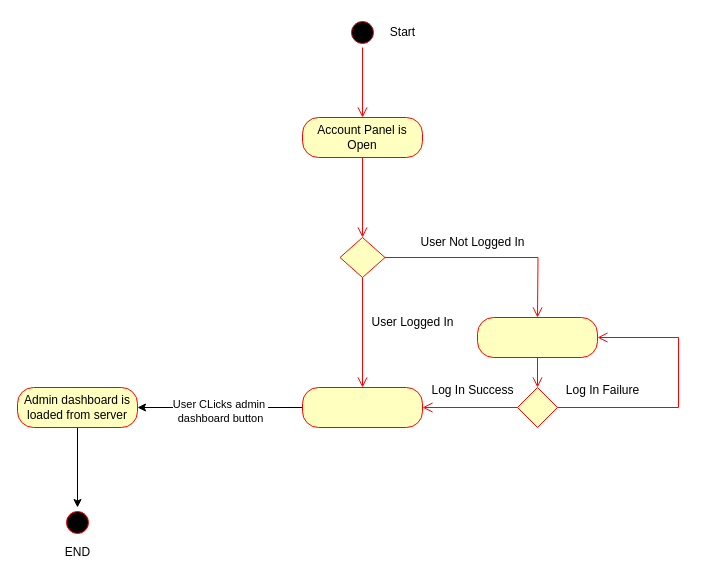
The diagram is 706 pixels wide and 585 high, and some of its shapes have lost their labels. The shapes that lost their labels are listed below. From the top down, each one's box as (x1, y1, x2, y2) in pixels, then its label:
(476, 316, 598, 358): Log In Prompt
(302, 386, 422, 428): Account Details Page
